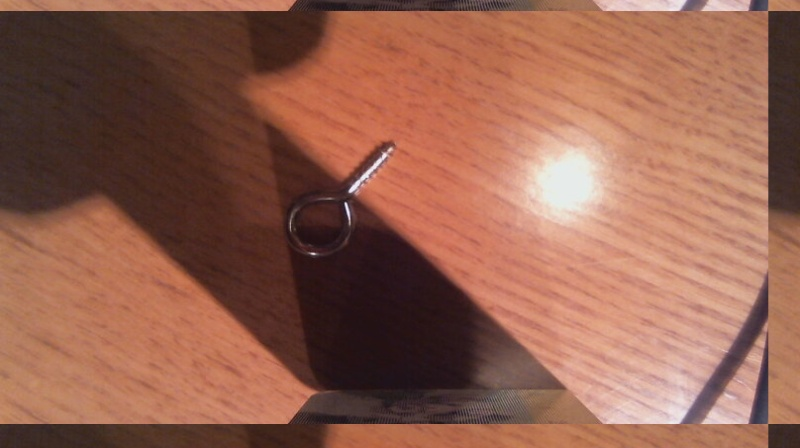O001: (283, 138, 398, 258)
